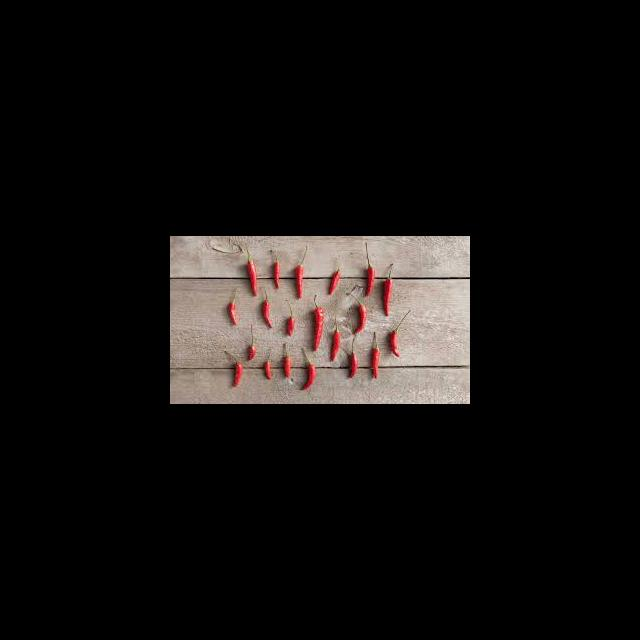chili_pepper: (366, 344, 385, 381), (353, 301, 371, 337), (361, 265, 380, 299), (227, 294, 244, 327), (314, 306, 325, 353), (302, 364, 319, 390), (232, 360, 245, 393), (271, 259, 284, 291), (384, 279, 395, 316), (330, 331, 343, 361), (248, 261, 259, 295), (294, 265, 305, 299), (281, 354, 295, 380), (349, 349, 360, 381), (261, 301, 274, 328), (263, 360, 276, 383), (329, 271, 341, 295), (391, 332, 401, 358), (247, 345, 260, 365), (287, 317, 297, 337)
